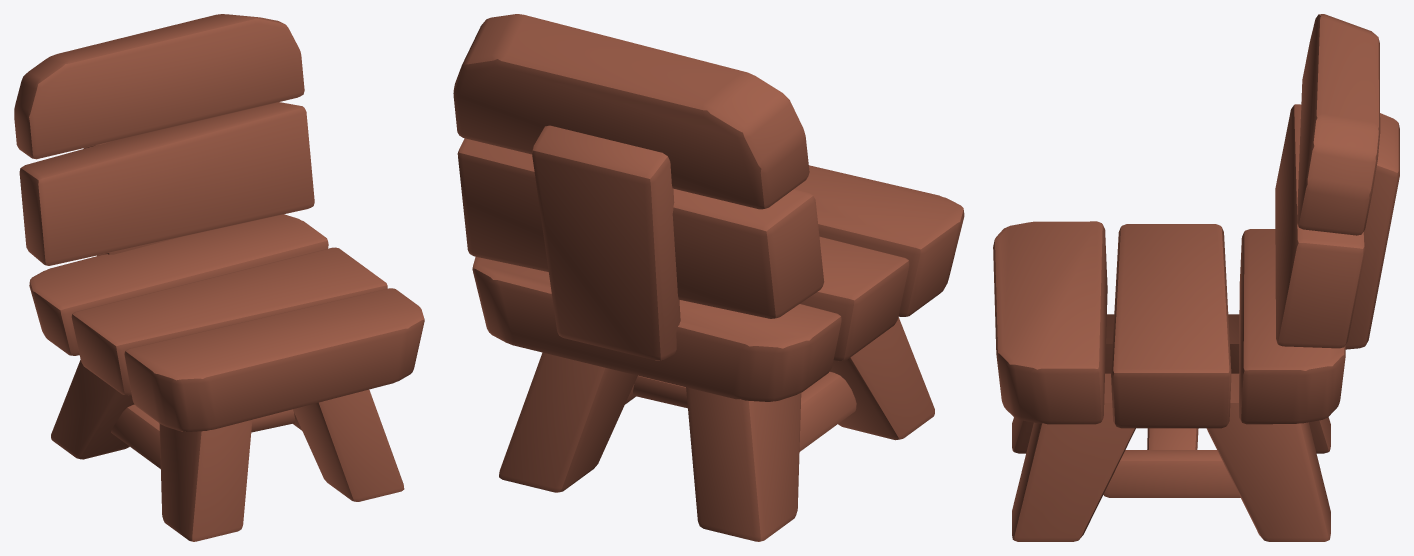
Rendered from chair.gltf.
3 views of the same model, side by side, from view 1: azimuth 30°, elevation 25°; view 2: azimuth 150°, elevation 25°; view 3: azimuth 270°, elevation 25° (orthographic). The views are drawn at different scales.
Parts seen in each view (by area): view 1: chair; view 2: chair; view 3: chair.
Part boxes in pixels (left/top/right/bottom): chair: left=14, top=14, right=424, bottom=541; chair: left=453, top=14, right=964, bottom=541; chair: left=993, top=14, right=1399, bottom=541.
Size of the model in its own units: 0.7465 by 0.9909 by 0.8699.
